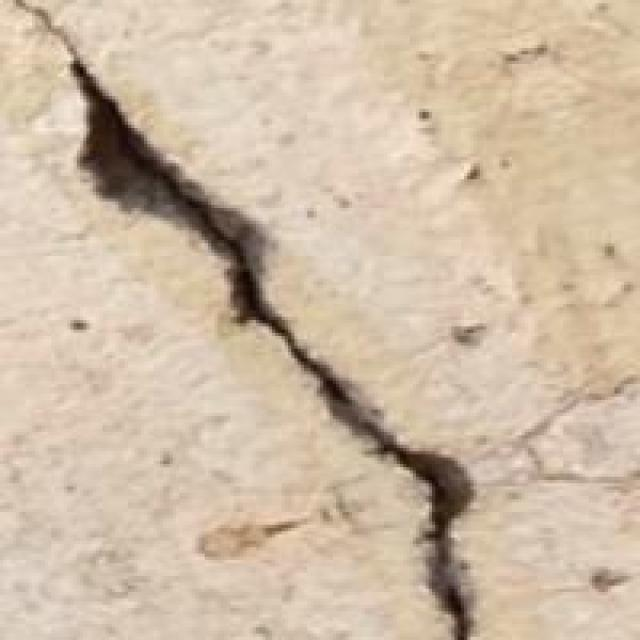Crack: (16, 9, 512, 636)
